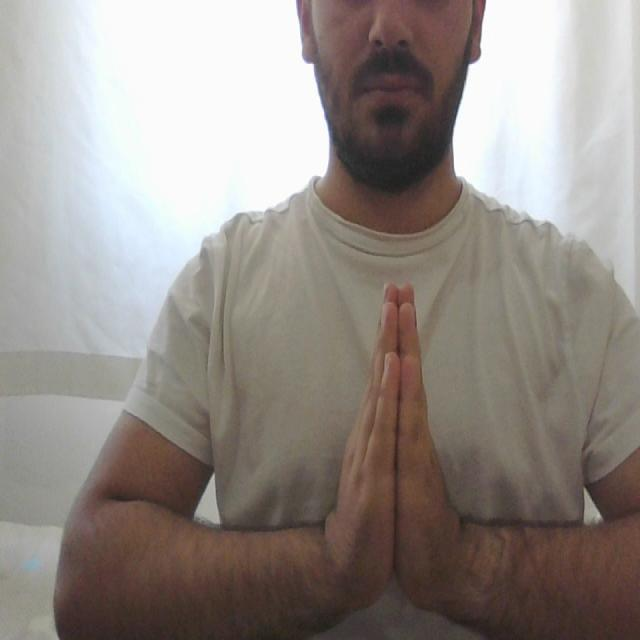Ozur-Dilemek: (323, 278, 468, 632)
